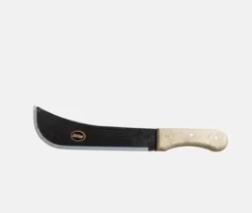MACHETTE: (32, 99, 230, 161)
